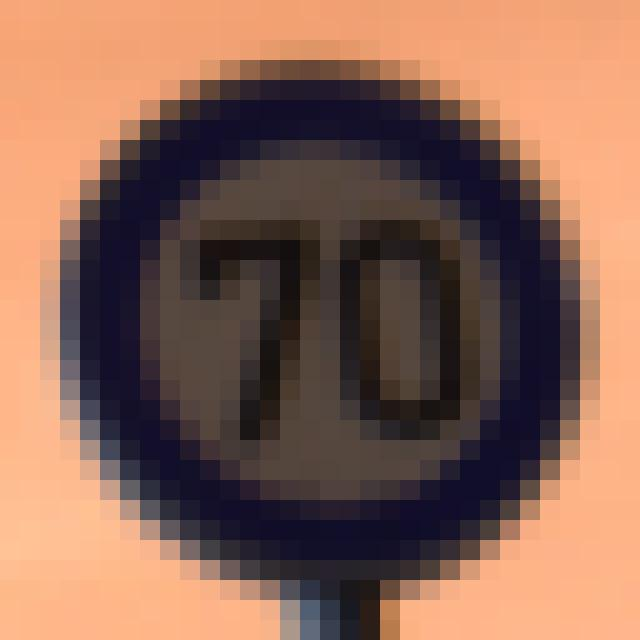SPEED LIMIT 70: (40, 69, 602, 592)
